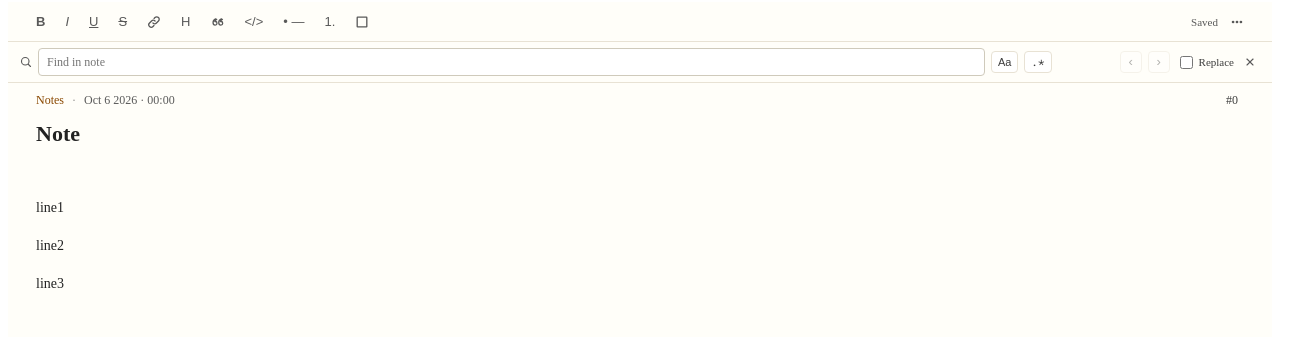
Replace consumes what it replaced › a case-only replacement counts down to no match and stops
Type "line" into the field with class "find-input".
click(511, 62); type("line")  # box [38,48,985,76]
Wait 400 ms
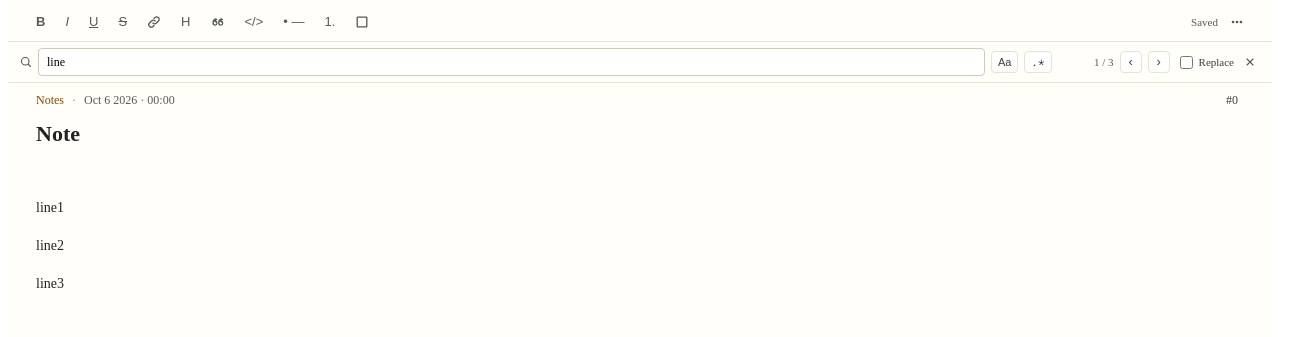
Click the checkbox labelled "Replace".
click(1186, 62)  # box [1180,56,1193,68]
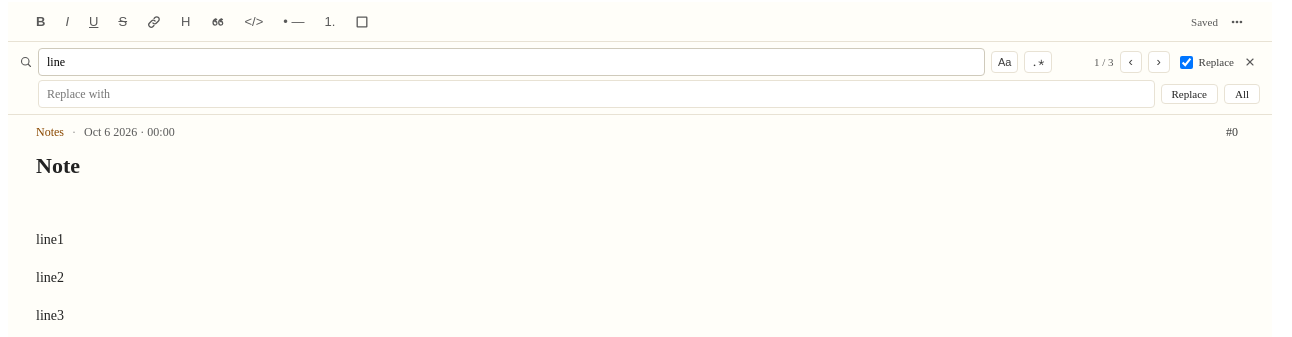
Type "LINE" into the field with placeholder "Replace with".
click(596, 94); type("LINE")  # box [38,80,1154,108]
Wait 400 ms
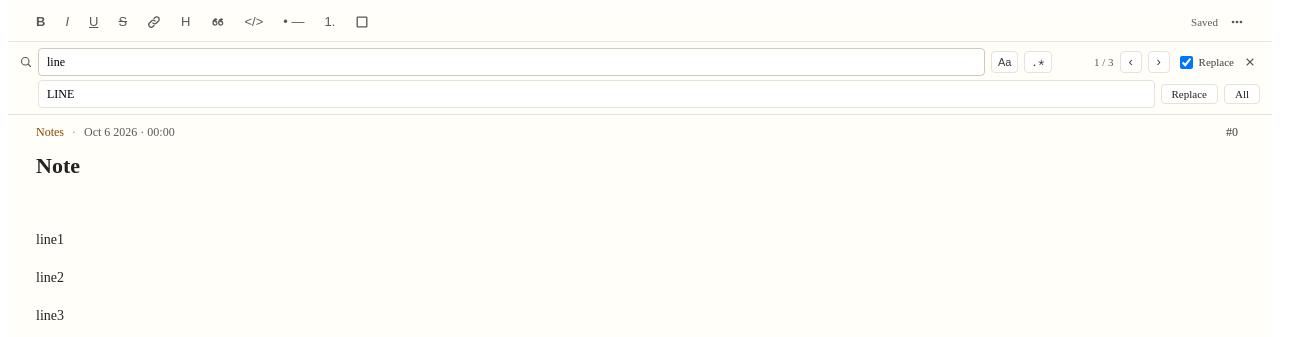
Click the button "Replace".
click(1189, 94)  # box [1160,84,1218,104]
Wait 1 ms
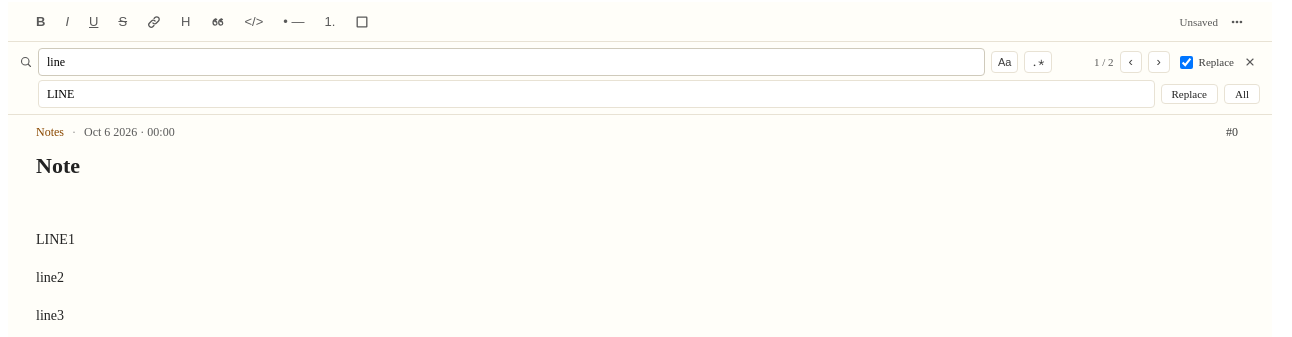
Click the button "Replace".
click(1189, 94)  # box [1160,84,1218,104]
Wait 1 ms
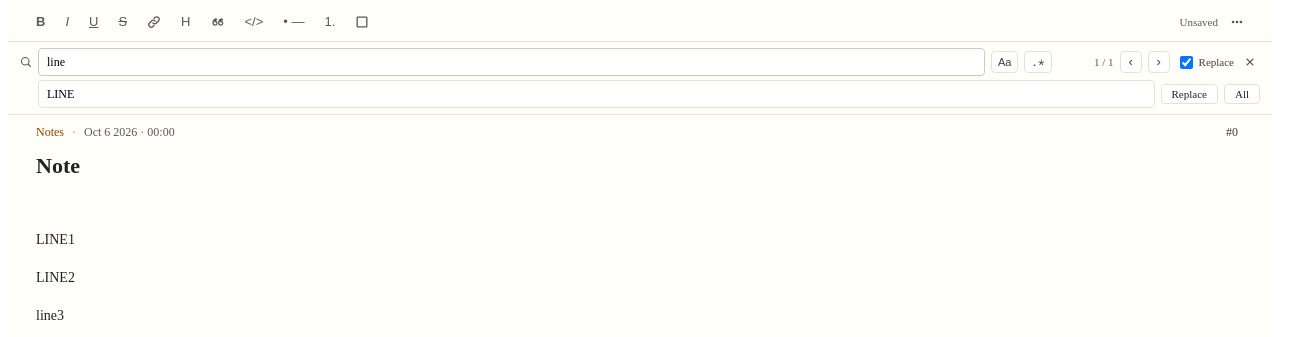
Click the button "Replace".
click(1189, 94)  # box [1160,84,1218,104]
Wait 1 ms
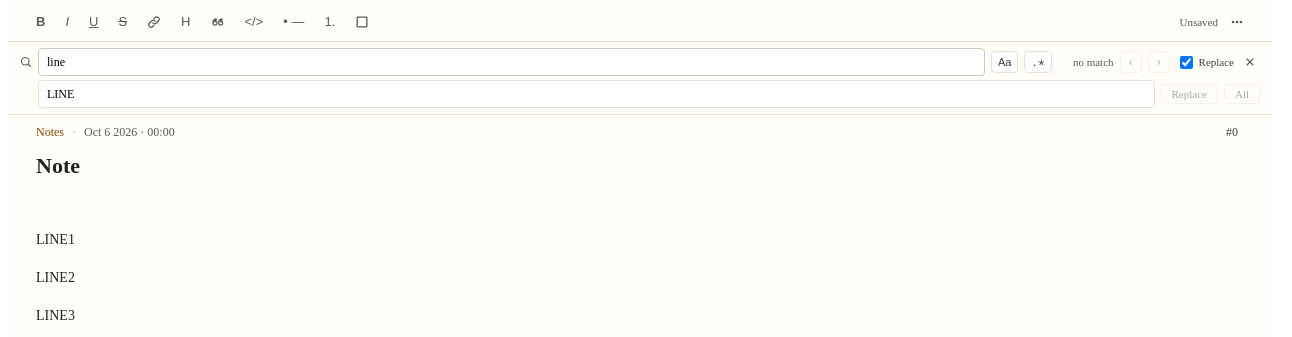
Now the button "Replace" is disabled, box [1160,84,1218,104]
Now the button "All" is disabled, box [1224,84,1260,104]
